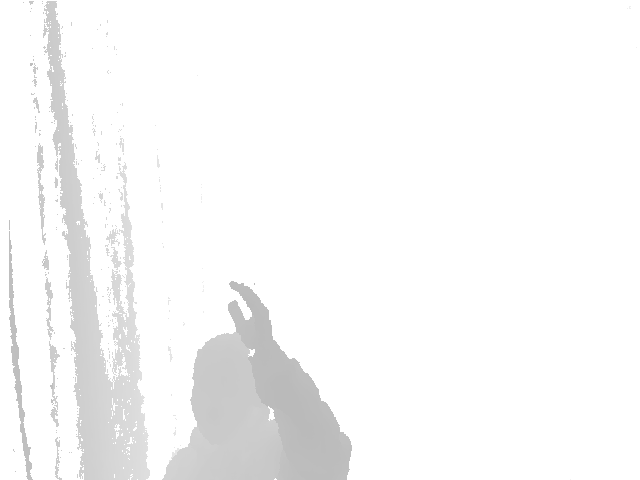hand: (227, 279, 276, 358)
head: (186, 330, 272, 434)
person: (161, 280, 352, 480)
